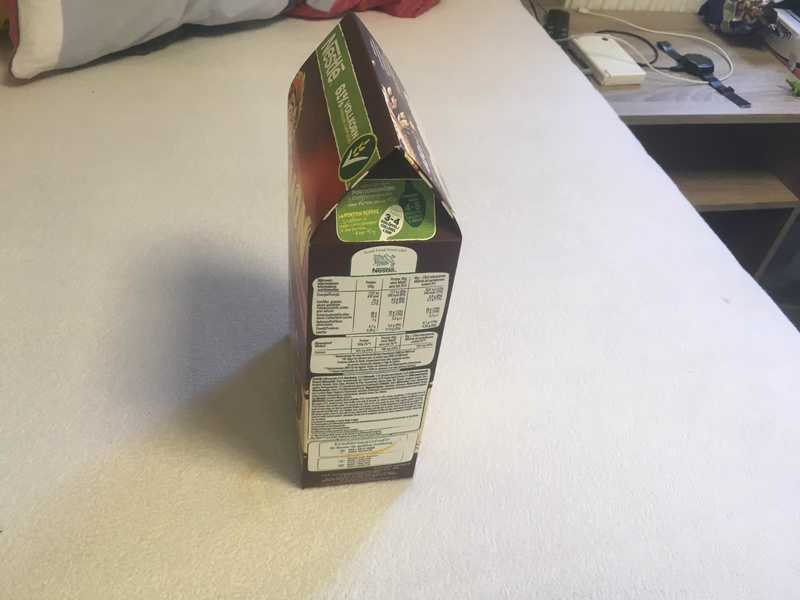cereals: (285, 9, 463, 489)
